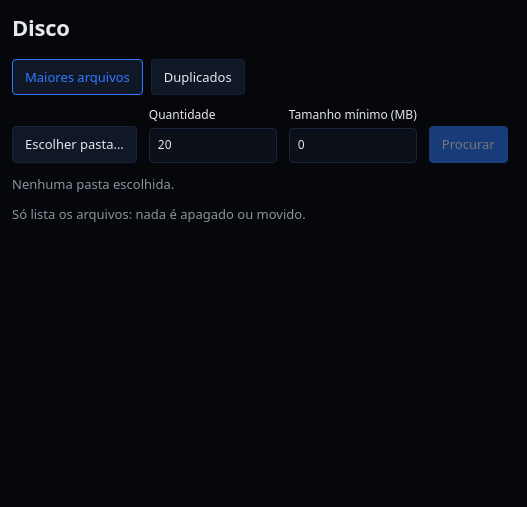
Test: Disco › limita a lista de não verificados a 200
The width and height of the screenshot is (527, 507).
Click the button "Escolher pasta…" at (74, 144), box [12,126,137,163]
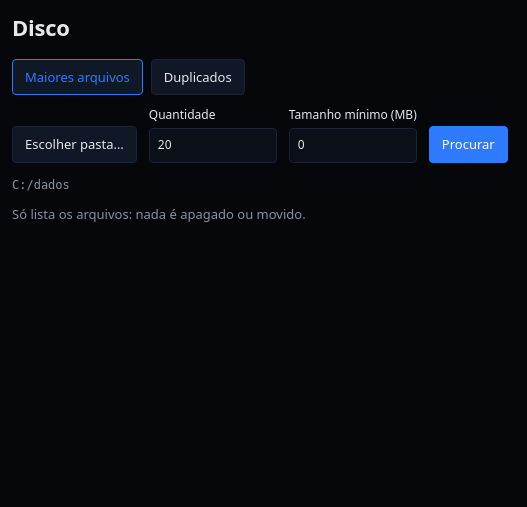
Expected: the text "C:/dados" is shown, [12,178,70,192]
Click the button "Procurar" at (468, 144), box [429,126,508,163]
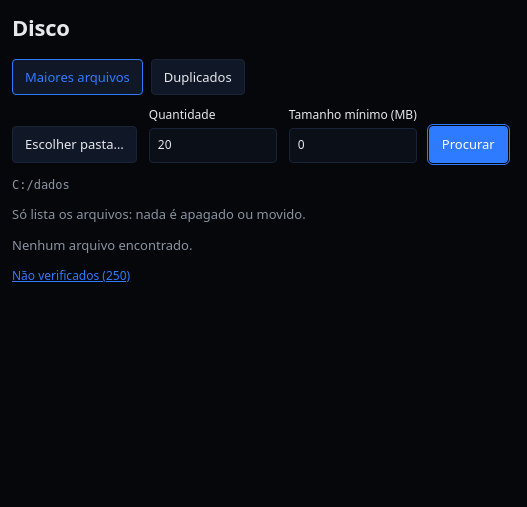
Click the button "Não verificados (250)" at (71, 276), box [12,268,130,285]
(page scrolled)
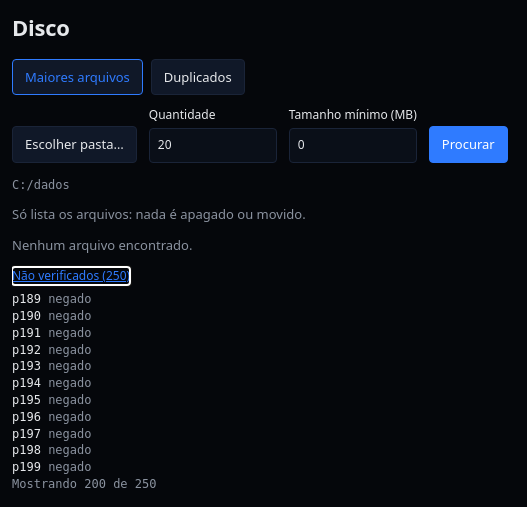
Expected: the list item "Mostrando 200 de 250" is shown, [12,477,156,491]
Expected: the text "p199" is shown, [12,460,41,474]
